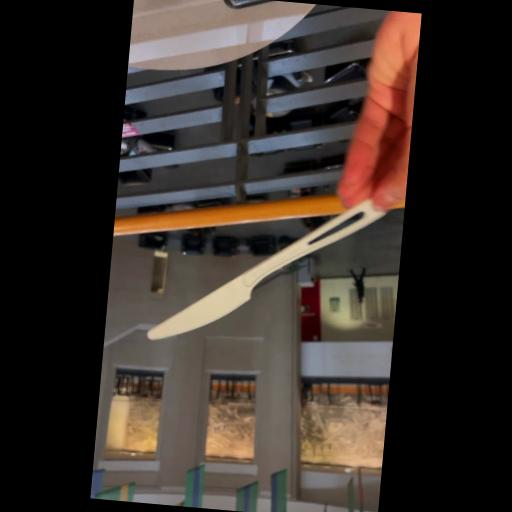utensil: (144, 176, 398, 362)
